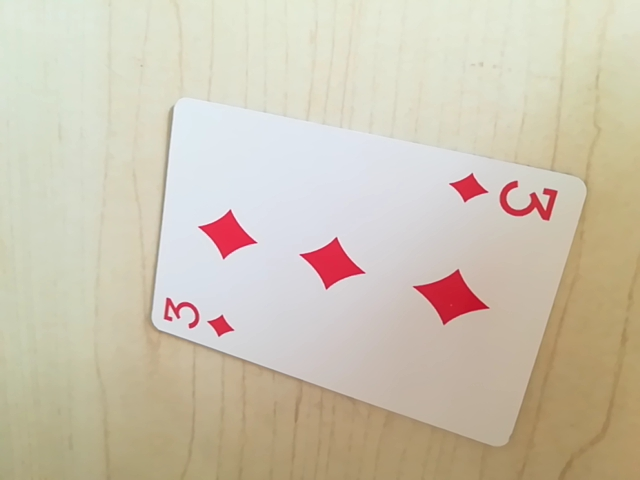fk 3: (445, 169, 560, 225), (159, 292, 239, 341)
